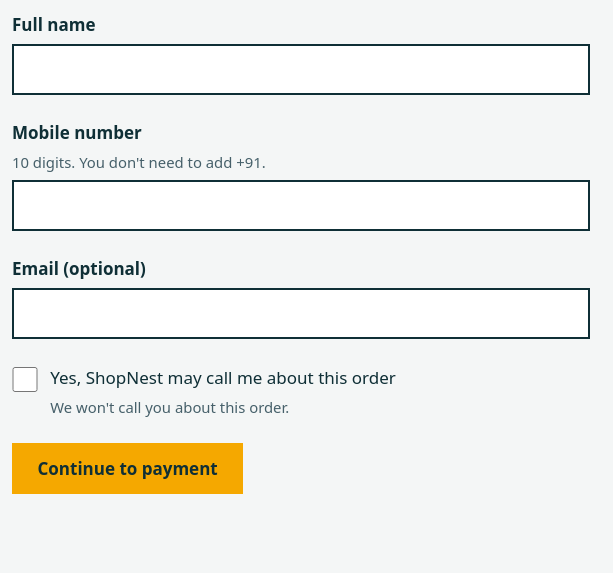
Test: CheckoutForm › shows inline errors for a one-letter name and a short phone number, and does not submit
The image size is (613, 573).
Type "R" into the field labelled "Full name". click: (301, 69)
box: [12,44,590,95]
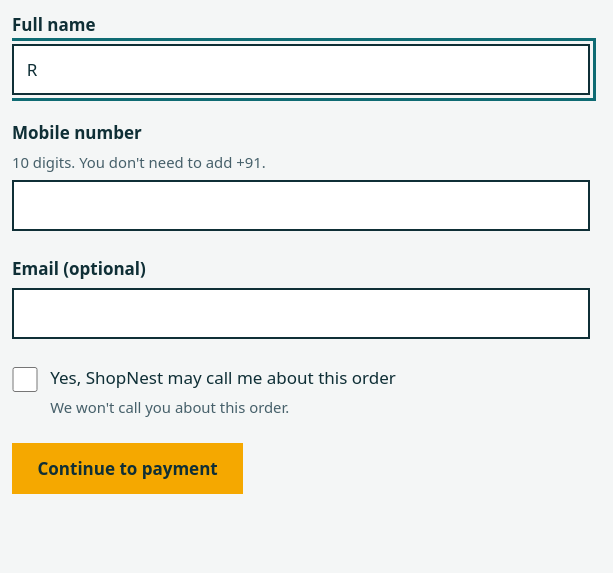
Type "12345" into the field labelled "Mobile number". click: (301, 205)
box: [12,180,590,231]
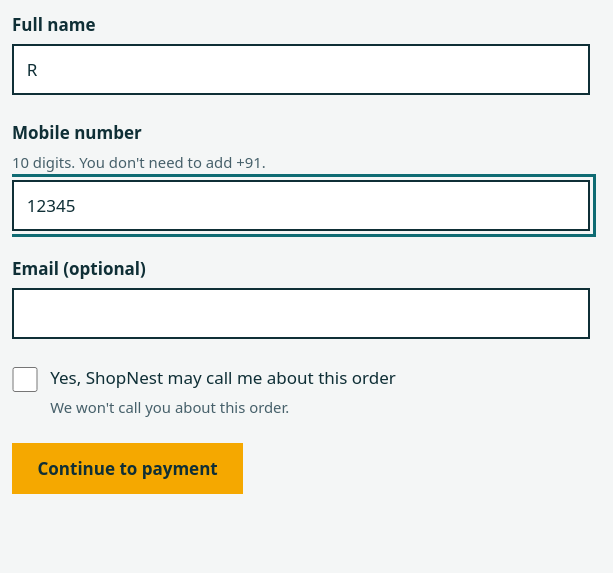
Click the button "Continue to payment". click: (128, 469)
box: [12,443,243,494]
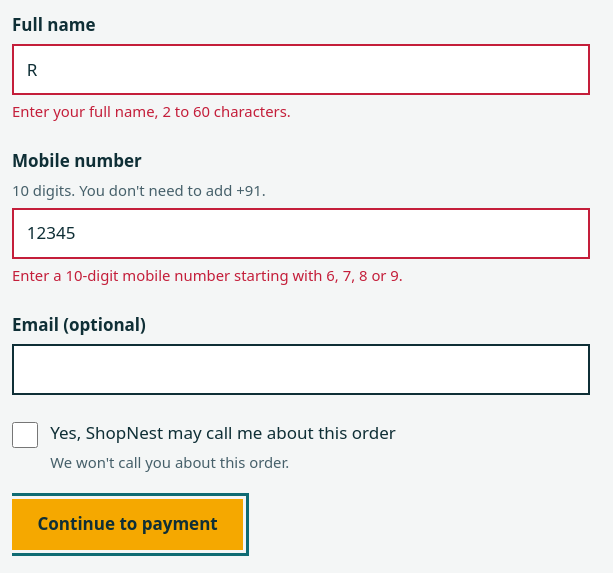
Expected: the text "Enter your full name, 2 to 60 characters." is shown, [12,101,291,121]
Expected: the text "Enter a 10-digit mobile number starting with 6, 7, 8 or 9." is shown, [12,265,403,285]
